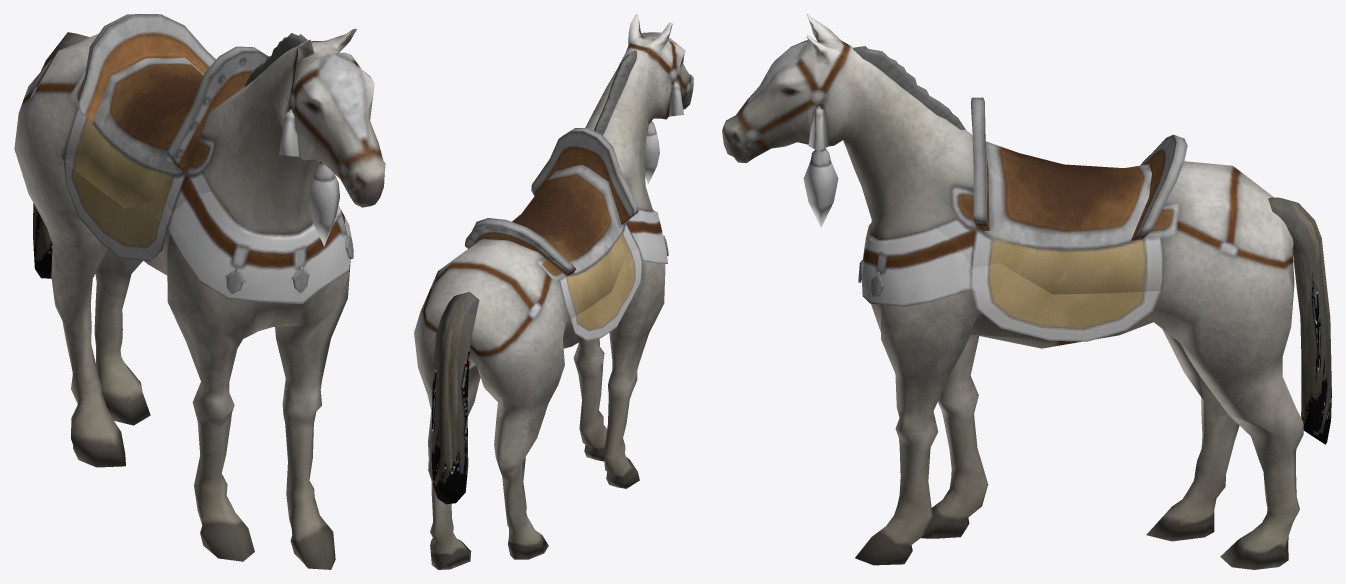
Rendered from body-mediumcavalry.glb.
The picture shows the model from 3 angles, left to right: view 1: azimuth 30°, elevation 25°; view 2: azimuth 150°, elevation 25°; view 3: azimuth 270°, elevation 25°; orthographic projection. The views are drawn at different scales.
Size of the model in its own units: 0.8036 by 2.5 by 2.65.
1 material, 1 textured.
